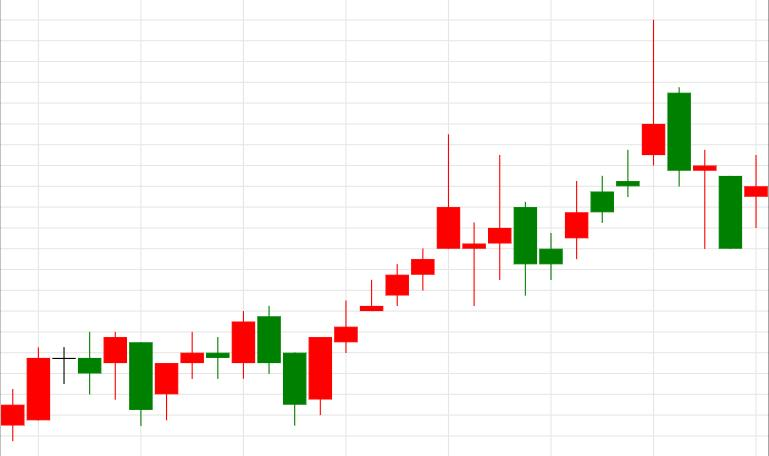shooting_star_fall: (309, 135, 460, 415), (539, 21, 666, 280)
